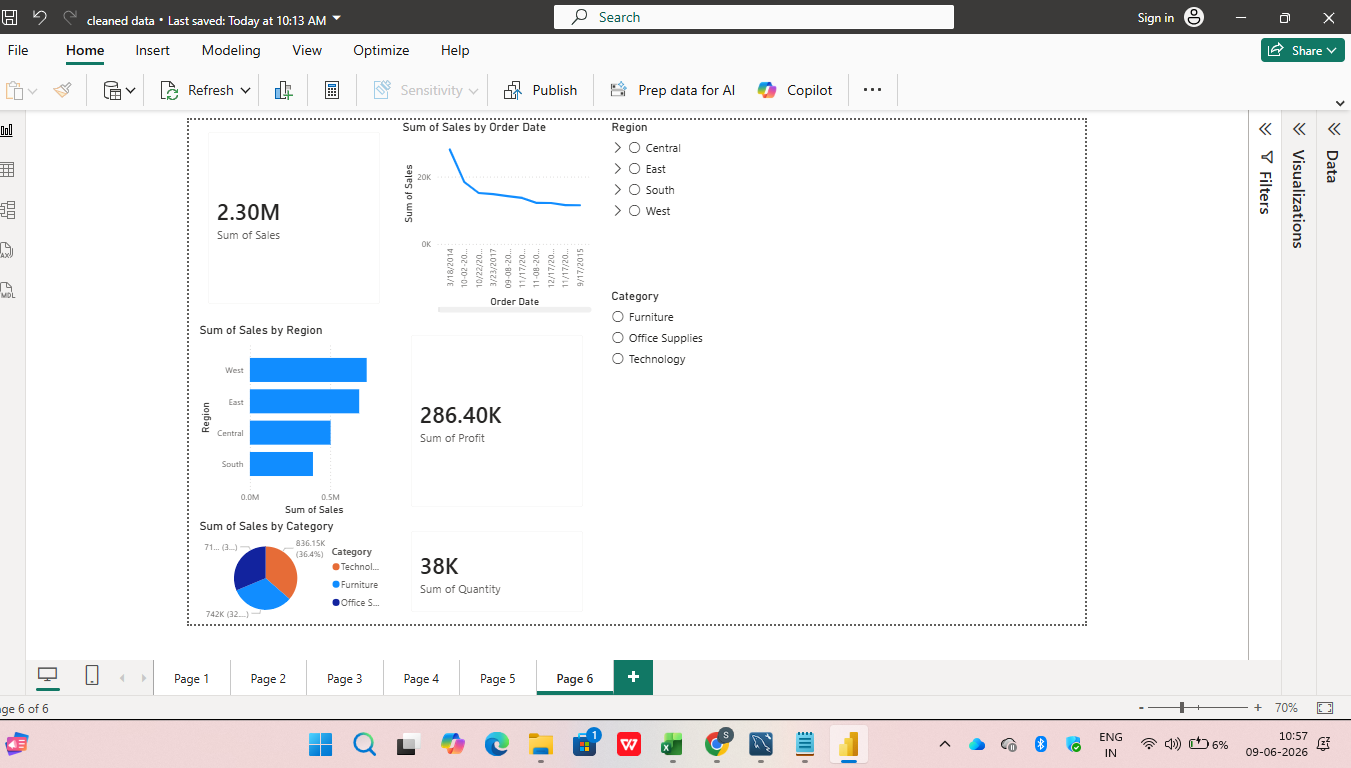

The dashboard page shown, as its layout file describes it:
{"tool":"powerbi","page":{"name":"Page 6","canvas":[1280,720],"ordinal":0},"visuals":[{"type":"cardVisual","fields":{"Data":["Sum(Cleaned_data - Superstore.Sales)"]},"box":[10,0,280,280],"z":0},{"type":"clusteredBarChart","fields":{"Category":["Cleaned_data - Superstore.Region"],"Y":["Sum(Cleaned_data - Superstore.Sales)"]},"box":[10,290,280,280],"z":1},{"type":"pieChart","fields":{"Category":["Cleaned_data - Superstore.Category"],"Y":["Sum(Cleaned_data - Superstore.Sales)"]},"box":[10,570,280,150],"z":2},{"type":"lineChart","fields":{"Category":["Cleaned_data - Superstore.Order Date"],"Y":["Sum(Cleaned_data - Superstore.Sales)"]},"box":[300,0,280,280],"z":3},{"type":"cardVisual","fields":{"Data":["Sum(Cleaned_data - Superstore.Profit)"]},"box":[300,290,280,280],"z":4},{"type":"cardVisual","fields":{"Data":["Sum(Cleaned_data - Superstore.Quantity)"]},"box":[300,570,280,150],"z":5},{"type":"listSlicer","fields":{"Values":["Cleaned_data - Superstore.Region","Cleaned_data - Superstore.Category"]},"box":[598.6,0,280,280],"z":6},{"type":"listSlicer","fields":{"Values":["Cleaned_data - Superstore.Category"]},"box":[598.2,240.9,280,280],"z":7}]}

Visuals, with their boxes on the page's 1280x720 design canvas (x1, y1, x2, y2). These are canvas units, not pixel positions in the 1351x768 screenshot, which may show the page scaled, cropped or inside an application window:
cardVisual - Sum(Cleaned_data - Superstore.Sales): rect(10, 0, 290, 280)
clusteredBarChart - Cleaned_data - Superstore.Region x Sum(Cleaned_data - Superstore.Sales): rect(10, 290, 290, 570)
pieChart - Cleaned_data - Superstore.Category x Sum(Cleaned_data - Superstore.Sales): rect(10, 570, 290, 720)
lineChart - Cleaned_data - Superstore.Order Date x Sum(Cleaned_data - Superstore.Sales): rect(300, 0, 580, 280)
cardVisual - Sum(Cleaned_data - Superstore.Profit): rect(300, 290, 580, 570)
cardVisual - Sum(Cleaned_data - Superstore.Quantity): rect(300, 570, 580, 720)
listSlicer - Cleaned_data - Superstore.Region x Cleaned_data - Superstore.Category: rect(599, 0, 879, 280)
listSlicer - Cleaned_data - Superstore.Category: rect(598, 241, 878, 521)
